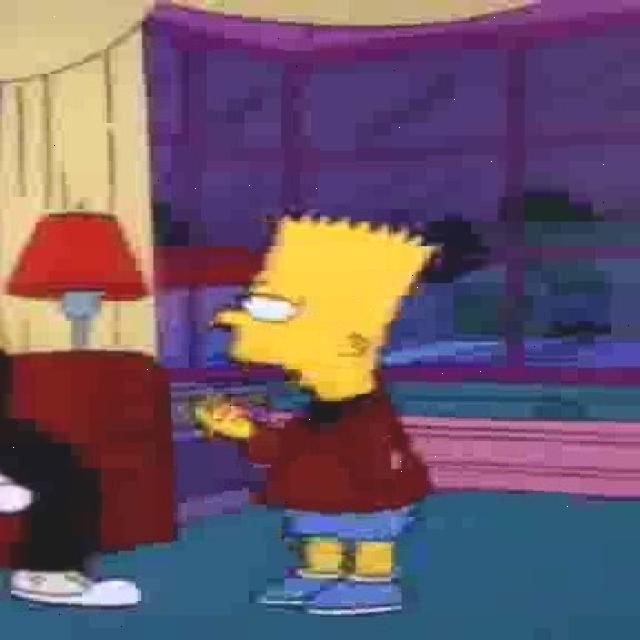Bart Simpson: (216, 214, 447, 403)
